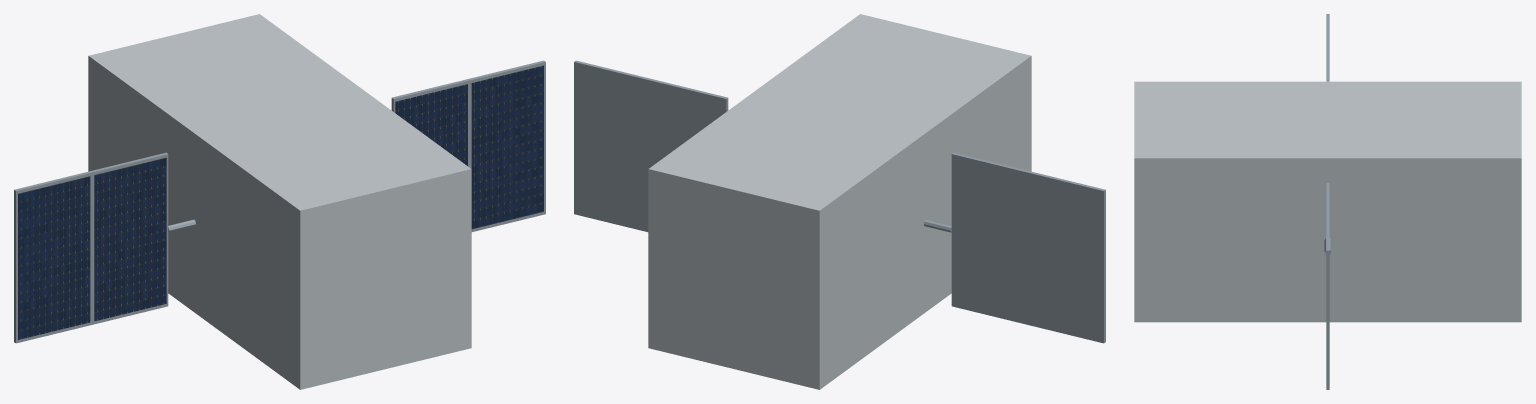
The model's file is ref-astro-e-28773.glb.
3 views of the same model, side by side, from view 1: azimuth 30°, elevation 25°; view 2: azimuth 150°, elevation 25°; view 3: azimuth 270°, elevation 25° (orthographic). The views are drawn at different scales.
Parts seen in each view (by area): view 1: Spacecraft body, Photovoltaic laminates (×4), Array frame (×4); view 2: Spacecraft body, Array frame (×4); view 3: Spacecraft body, Array frame.
Part boxes in pixels (box(x1,y1,x2,y2)): Spacecraft body: box(88, 14, 471, 389); Photovoltaic laminates (×4): box(18, 65, 543, 339); Array frame (×4): box(14, 60, 545, 343); Spacecraft body: box(648, 14, 1031, 389); Array frame (×4): box(574, 60, 1105, 343); Spacecraft body: box(1134, 81, 1521, 322); Array frame: box(1326, 216, 1329, 389).
Size of the model in its own units: 6.5 by 2.1 by 4.5.
3 materials, 1 textured.
